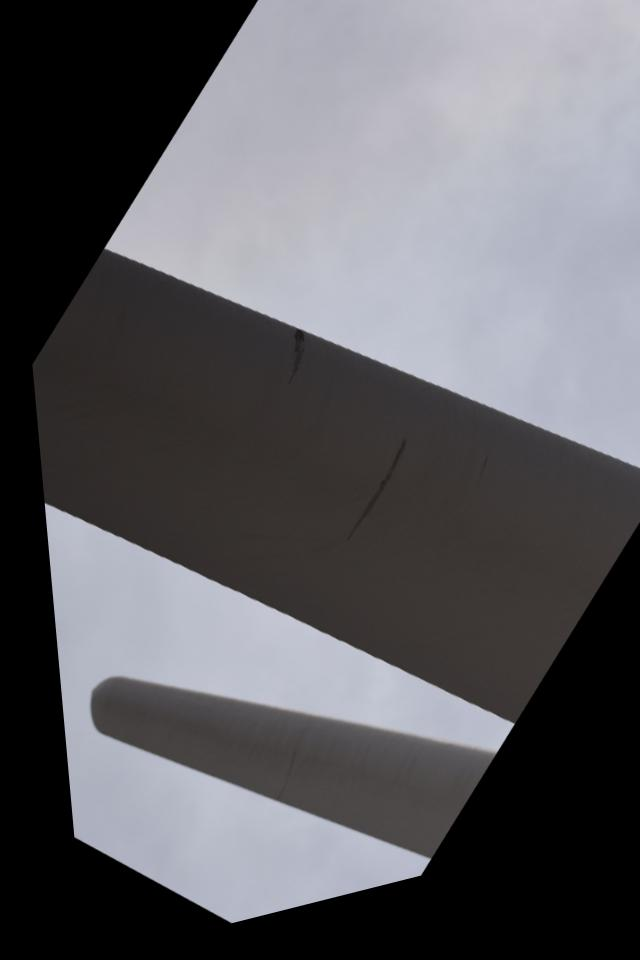damage: (316, 446, 416, 568), (254, 334, 317, 407)
